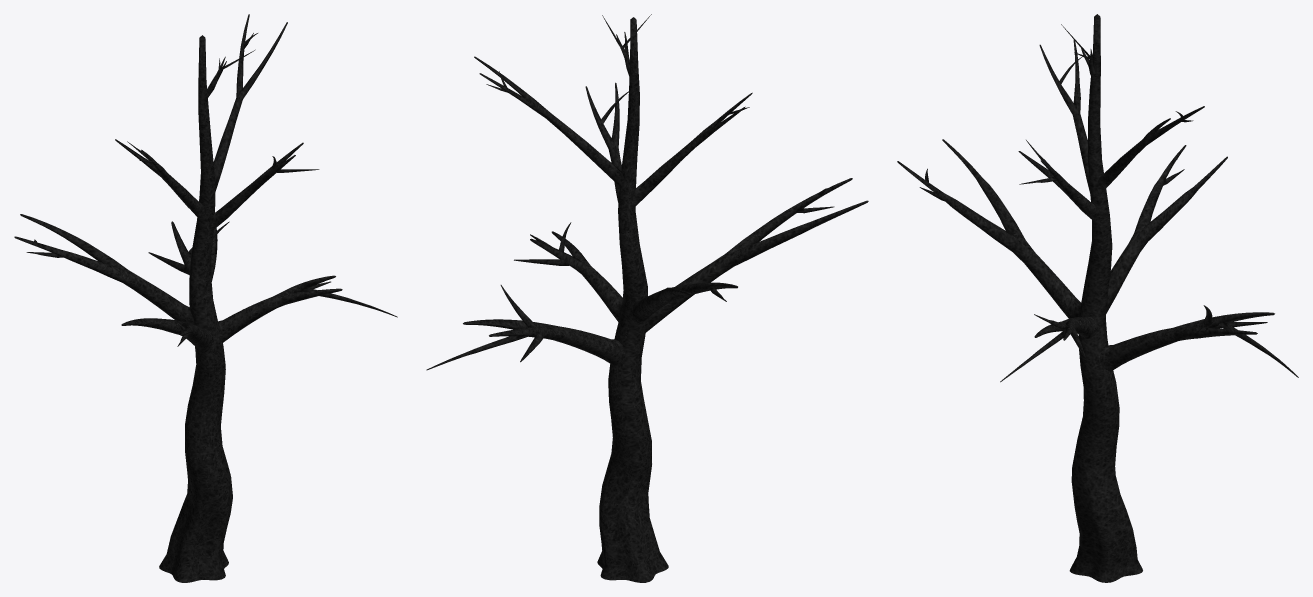
Rendered from SpookTree_2.obj.
3 renders of one model, left to right at view 1: azimuth 30°, elevation 25°; view 2: azimuth 150°, elevation 25°; view 3: azimuth 270°, elevation 25°, orthographic. The views are drawn at different scales.
Visible parts, largest first — view 1: Tree_0; view 2: Tree_0; view 3: Tree_0.
Part boxes in pixels (left/top/right/bottom): Tree_0: left=14, top=14, right=397, bottom=582; Tree_0: left=426, top=14, right=868, bottom=582; Tree_0: left=897, top=14, right=1298, bottom=582.
Bounding box in the file's own units: 1201 × 2024 × 1330.
